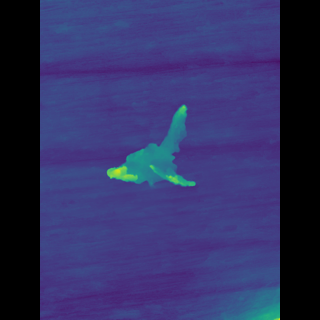Loch: (119, 98, 190, 197)
